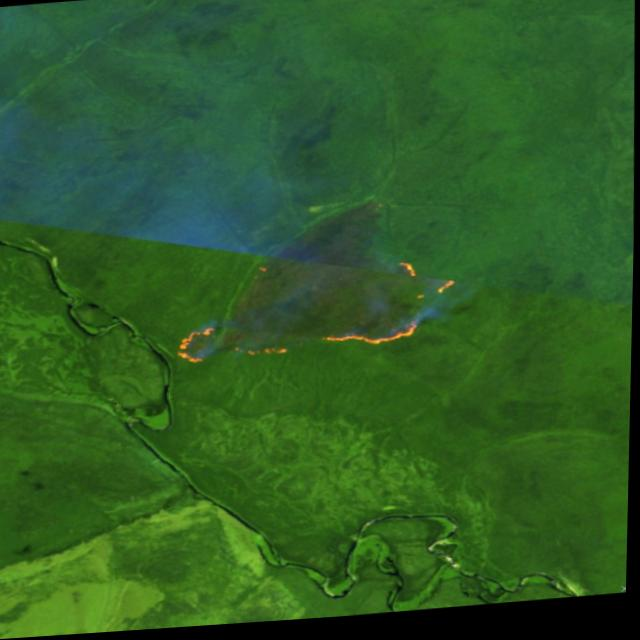fire: (172, 251, 465, 377)
